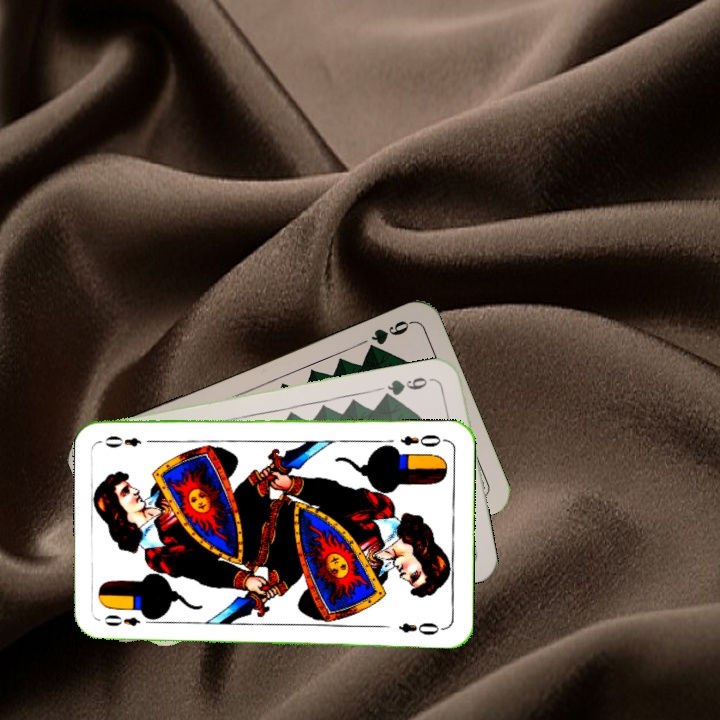EO: (100, 610, 157, 629), (397, 430, 449, 450)
G9: (362, 316, 415, 356), (380, 373, 439, 400)
